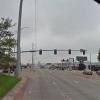Tree: (1, 6, 21, 75)
